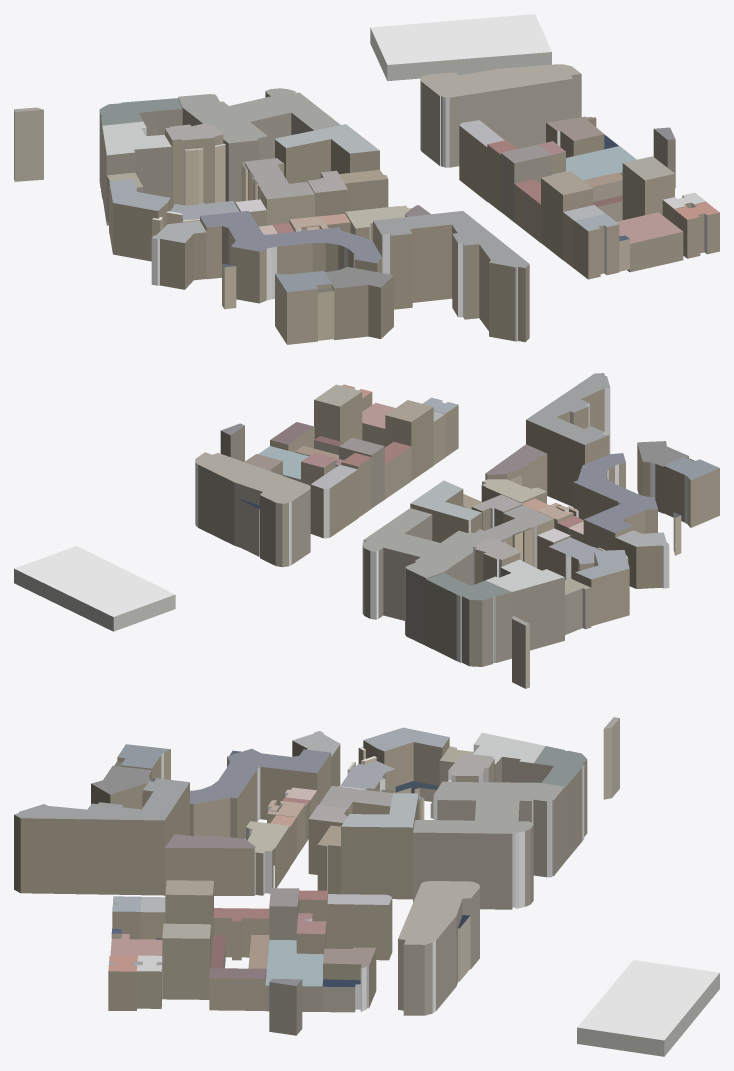
The picture shows the model from 3 angles, top to bottom: view 1: azimuth 30°, elevation 25°; view 2: azimuth 150°, elevation 25°; view 3: azimuth 270°, elevation 25°; orthographic projection. The views are drawn at different scales.
Parts seen in each view (by area): view 1: tuile; view 2: tuile; view 3: tuile.
Part boxes in pixels (bbox=[...]): tuile: bbox=[14, 14, 719, 344]; tuile: bbox=[14, 373, 719, 688]; tuile: bbox=[14, 717, 719, 1056].
Bounding box in the file's own units: 274 × 39.74 × 298.
